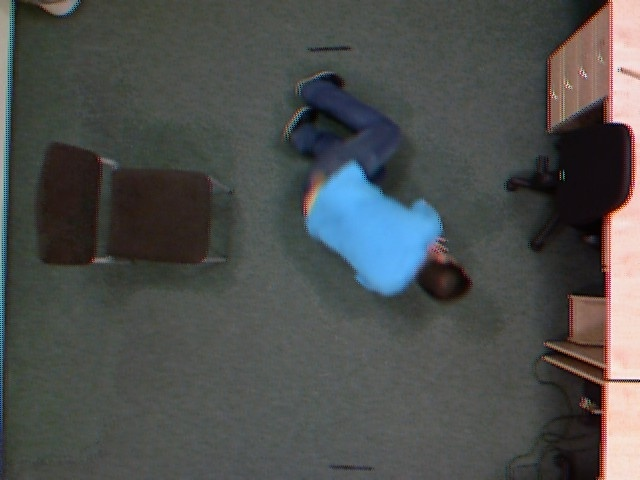fall: (275, 68, 494, 313)
